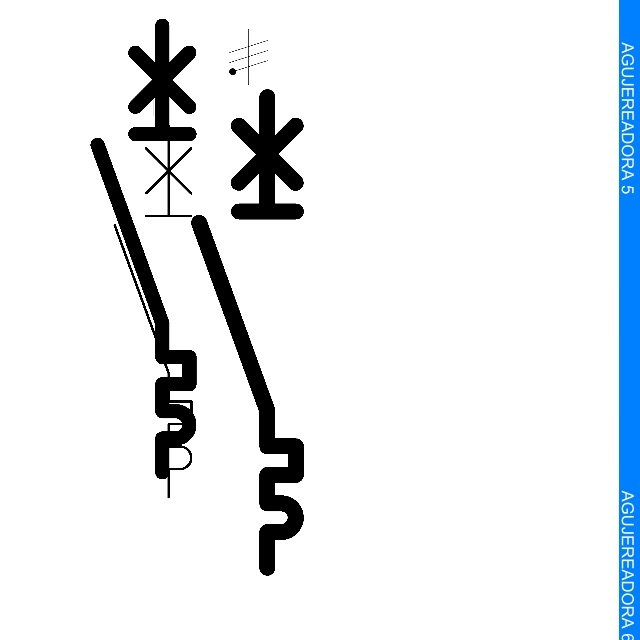interruptor_termomagnetico: (187, 85, 308, 580), (86, 14, 201, 484), (105, 116, 201, 507)
